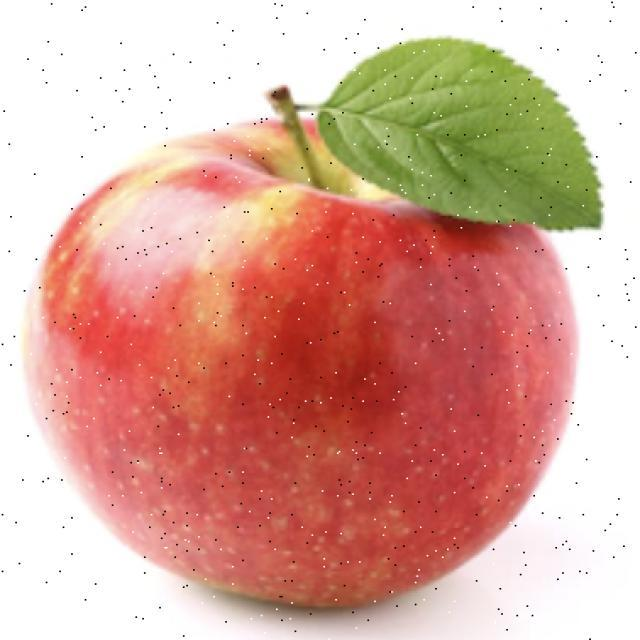Fresh Apple: (25, 128, 580, 588)
